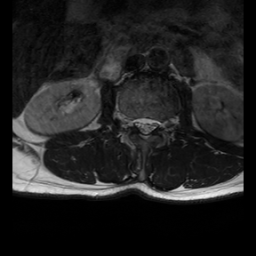CCS_normal: (141, 111, 148, 144)
LFS_stenosis: (157, 111, 165, 136)
LLS_normal: (148, 111, 157, 137)
RFS_normal: (125, 109, 133, 133)
RLS_normal: (133, 109, 141, 135)
